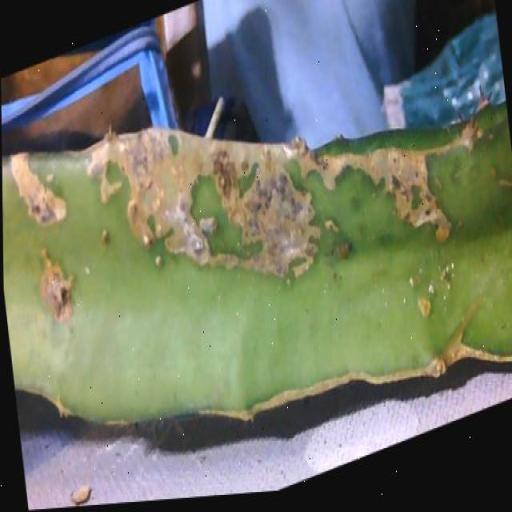stemcanker: (437, 259, 461, 293), (98, 226, 114, 253), (405, 270, 419, 293), (41, 170, 56, 191), (80, 260, 94, 281), (154, 253, 165, 273)
